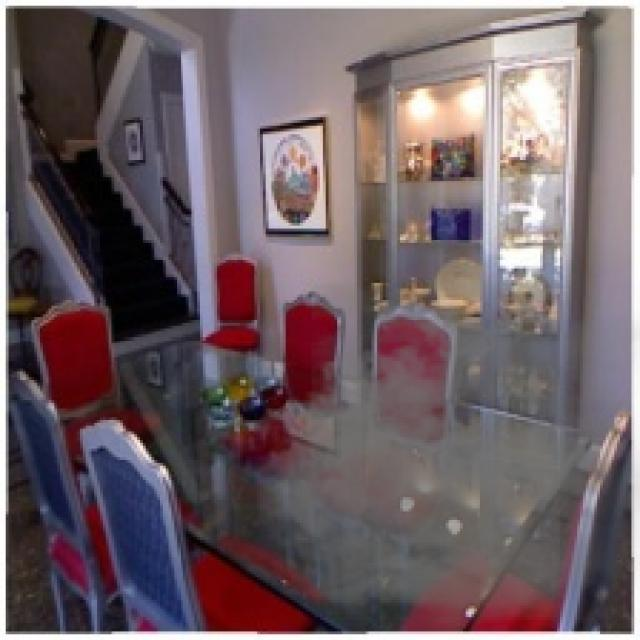smoke: (246, 283, 637, 631)
